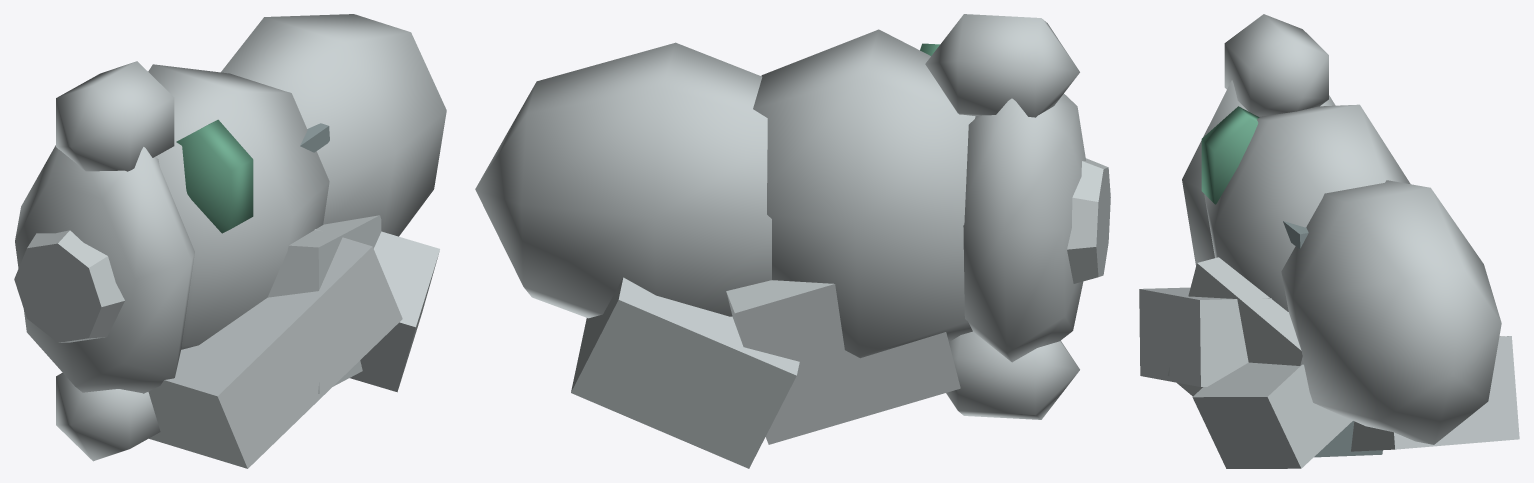
Rendered from sunken-city-and-underwater-ruins-fallen-statue-torso-d1acb431__36965.glb.
3 views of the same model, side by side, from view 1: azimuth 30°, elevation 25°; view 2: azimuth 150°, elevation 25°; view 3: azimuth 270°, elevation 25° (orthographic). The views are drawn at different scales.
Parts seen in each view (by area): view 1: fallen-statue-torso; view 2: fallen-statue-torso; view 3: fallen-statue-torso.
Part boxes in pixels (bbox=[...]): fallen-statue-torso: bbox=[14, 14, 446, 468]; fallen-statue-torso: bbox=[475, 14, 1110, 468]; fallen-statue-torso: bbox=[1139, 14, 1519, 468].
Size of the model in its own units: 1.55 by 1.17 by 1.14.
